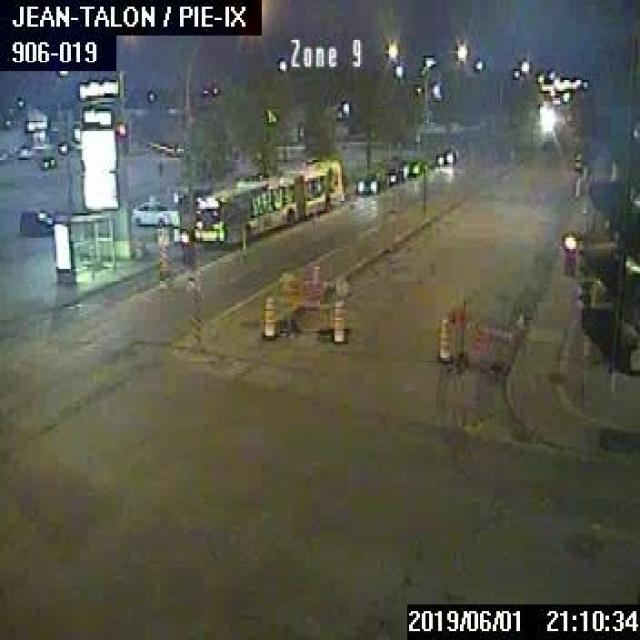bus: (191, 154, 344, 247)
construction: (276, 267, 349, 341), (448, 296, 517, 374), (434, 310, 452, 364), (260, 288, 277, 338), (330, 295, 346, 345)
pedestrian: (156, 158, 162, 175)
vehicle: (130, 198, 180, 225), (17, 208, 63, 236), (354, 172, 378, 192), (434, 144, 456, 164), (379, 164, 401, 183), (402, 157, 425, 175)
